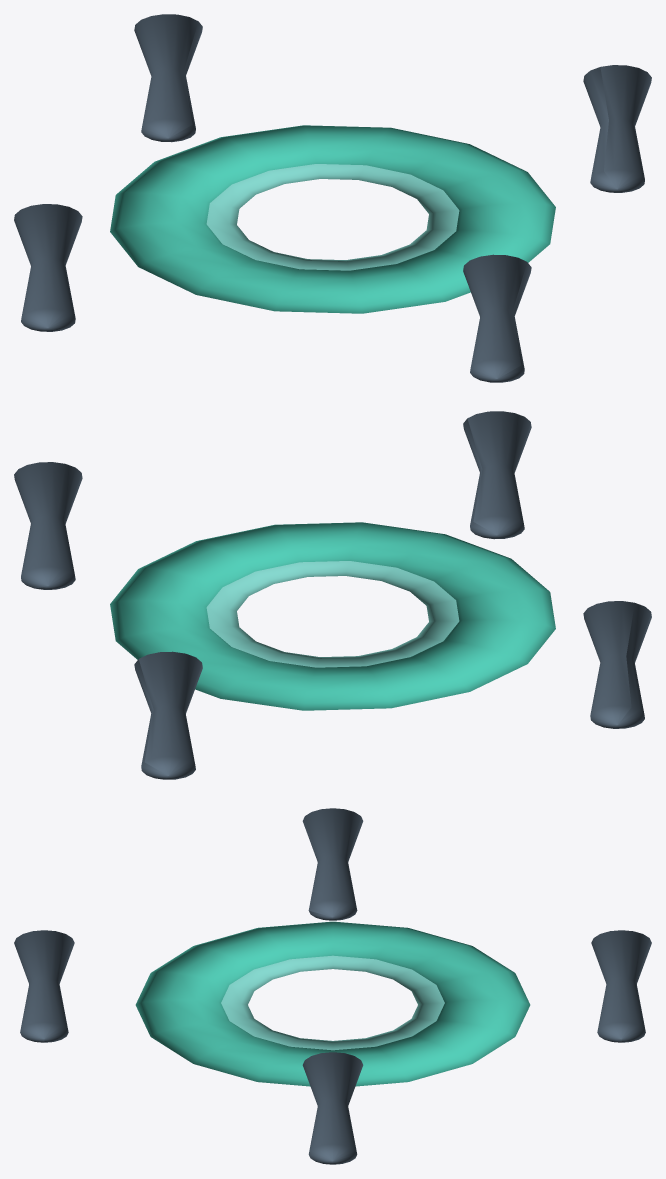
Rendered from dyson_ring.glb.
3 renders of one model, top to bottom at view 1: azimuth 30°, elevation 25°; view 2: azimuth 150°, elevation 25°; view 3: azimuth 270°, elevation 25°, orthographic. The views are drawn at different scales.
Visible parts, largest first — view 1: dyson_ring; view 2: dyson_ring; view 3: dyson_ring.
Boxes of the visible parts, box(x1,y1,x2,y2) form: dyson_ring: box(14, 14, 651, 382); dyson_ring: box(14, 411, 651, 779); dyson_ring: box(14, 808, 651, 1164).
Bounding box in the file's own units: 8.4 × 1.5 × 8.4.
